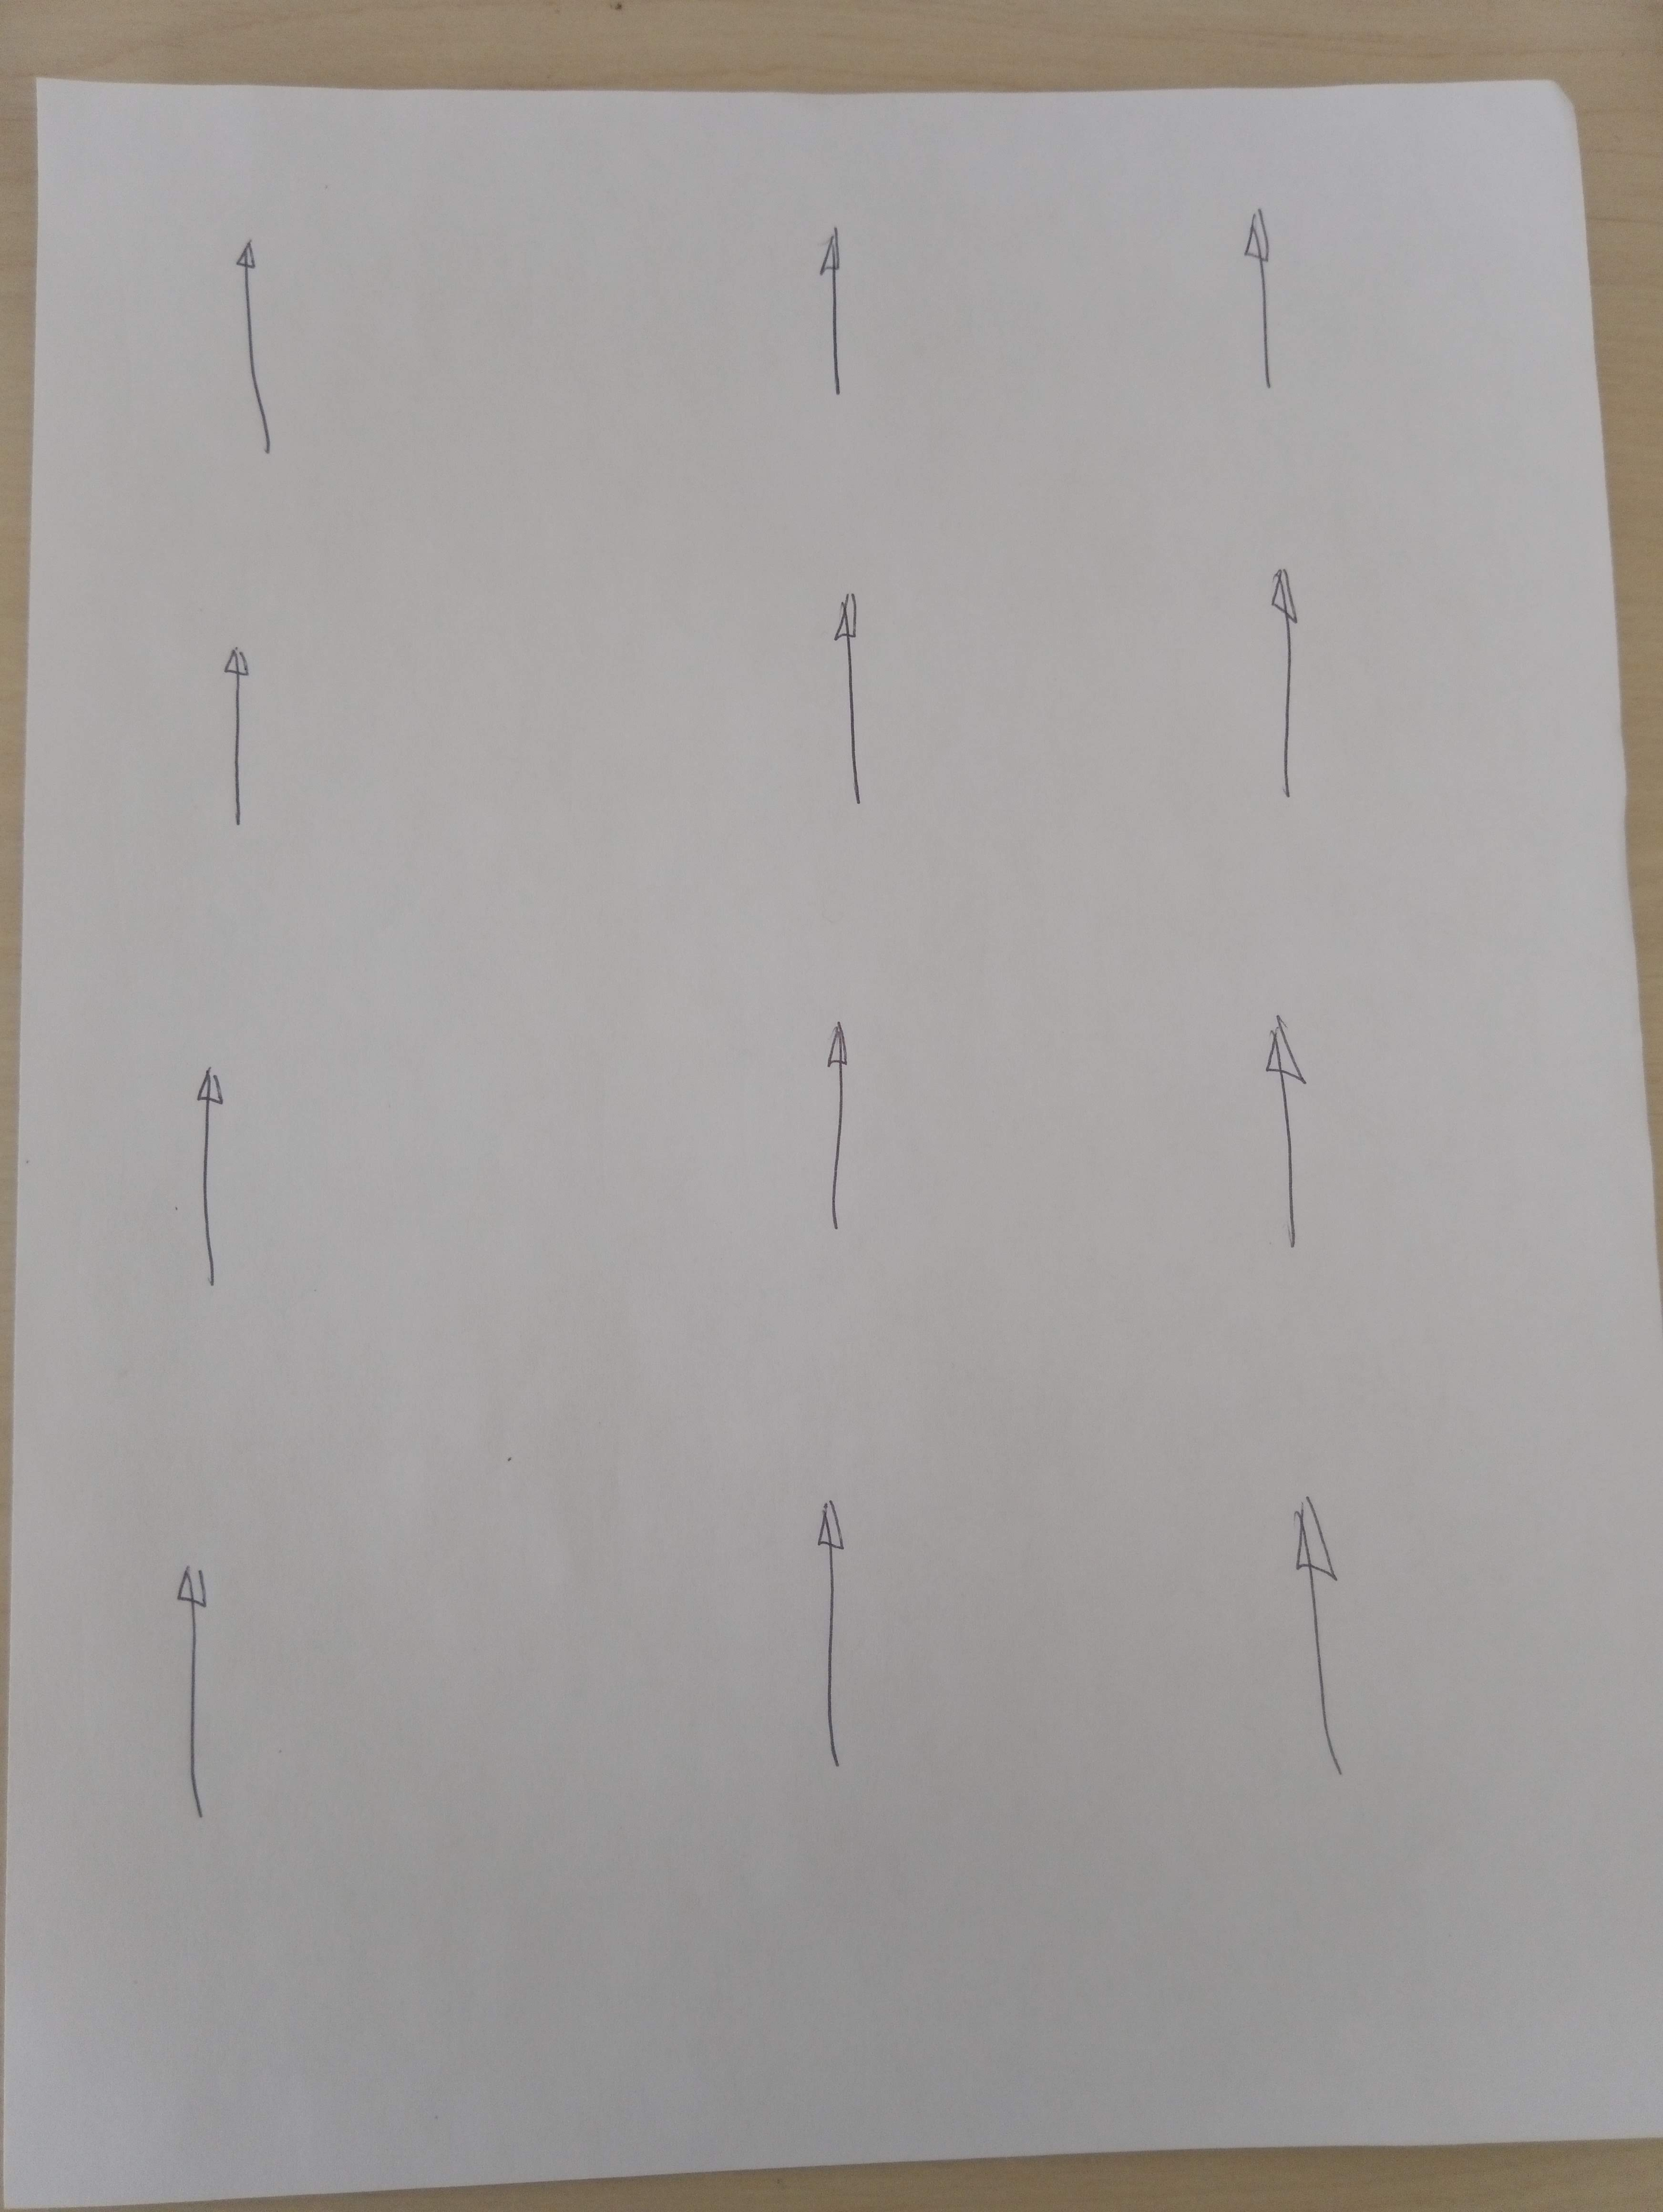arrow_line_up: (157, 1023, 309, 1299), (1223, 1020, 1343, 1283), (1282, 1493, 1385, 1779), (1247, 559, 1349, 845), (793, 1480, 886, 1779), (164, 1566, 257, 1844), (804, 585, 908, 826), (804, 1007, 875, 1255), (1232, 206, 1312, 400), (201, 632, 273, 842), (793, 225, 866, 416), (239, 236, 288, 461)
